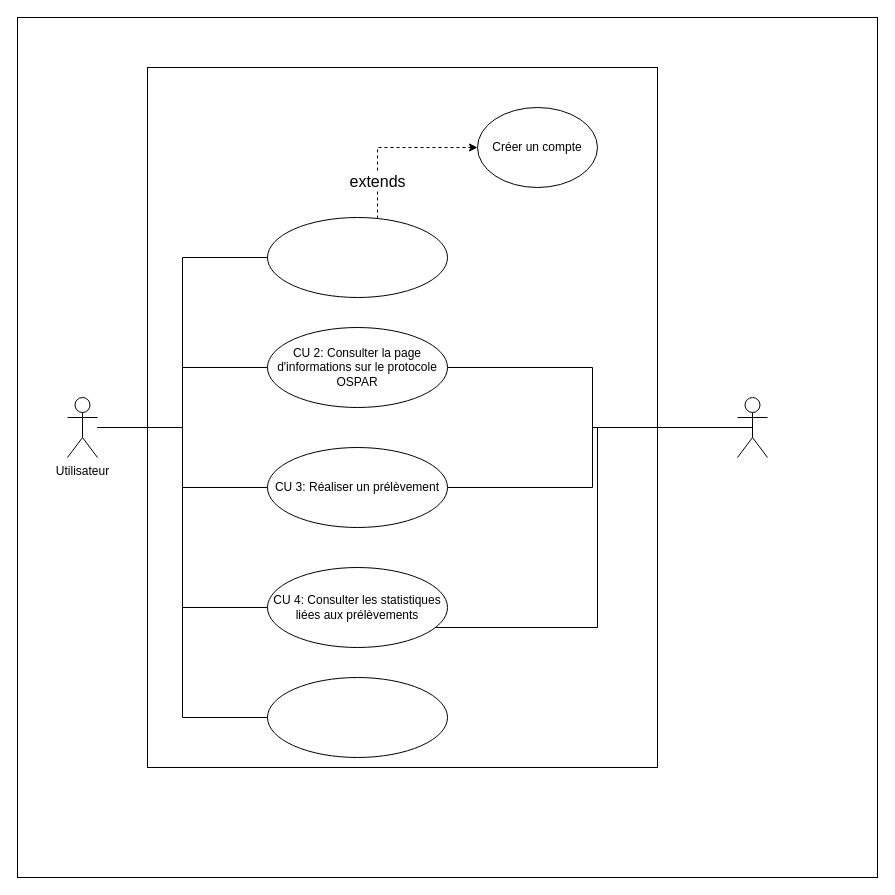
This 895x895 diagram has some shape labels left out. The centre of each missing label's shape, as x and y in pixels:
"CU 1: Accéder aux paramètres de compte" goes at point 357,257.
"CU 5: Consulter les ressources externes" goes at point 357,717.
"MongoDB" goes at point 752,427.
